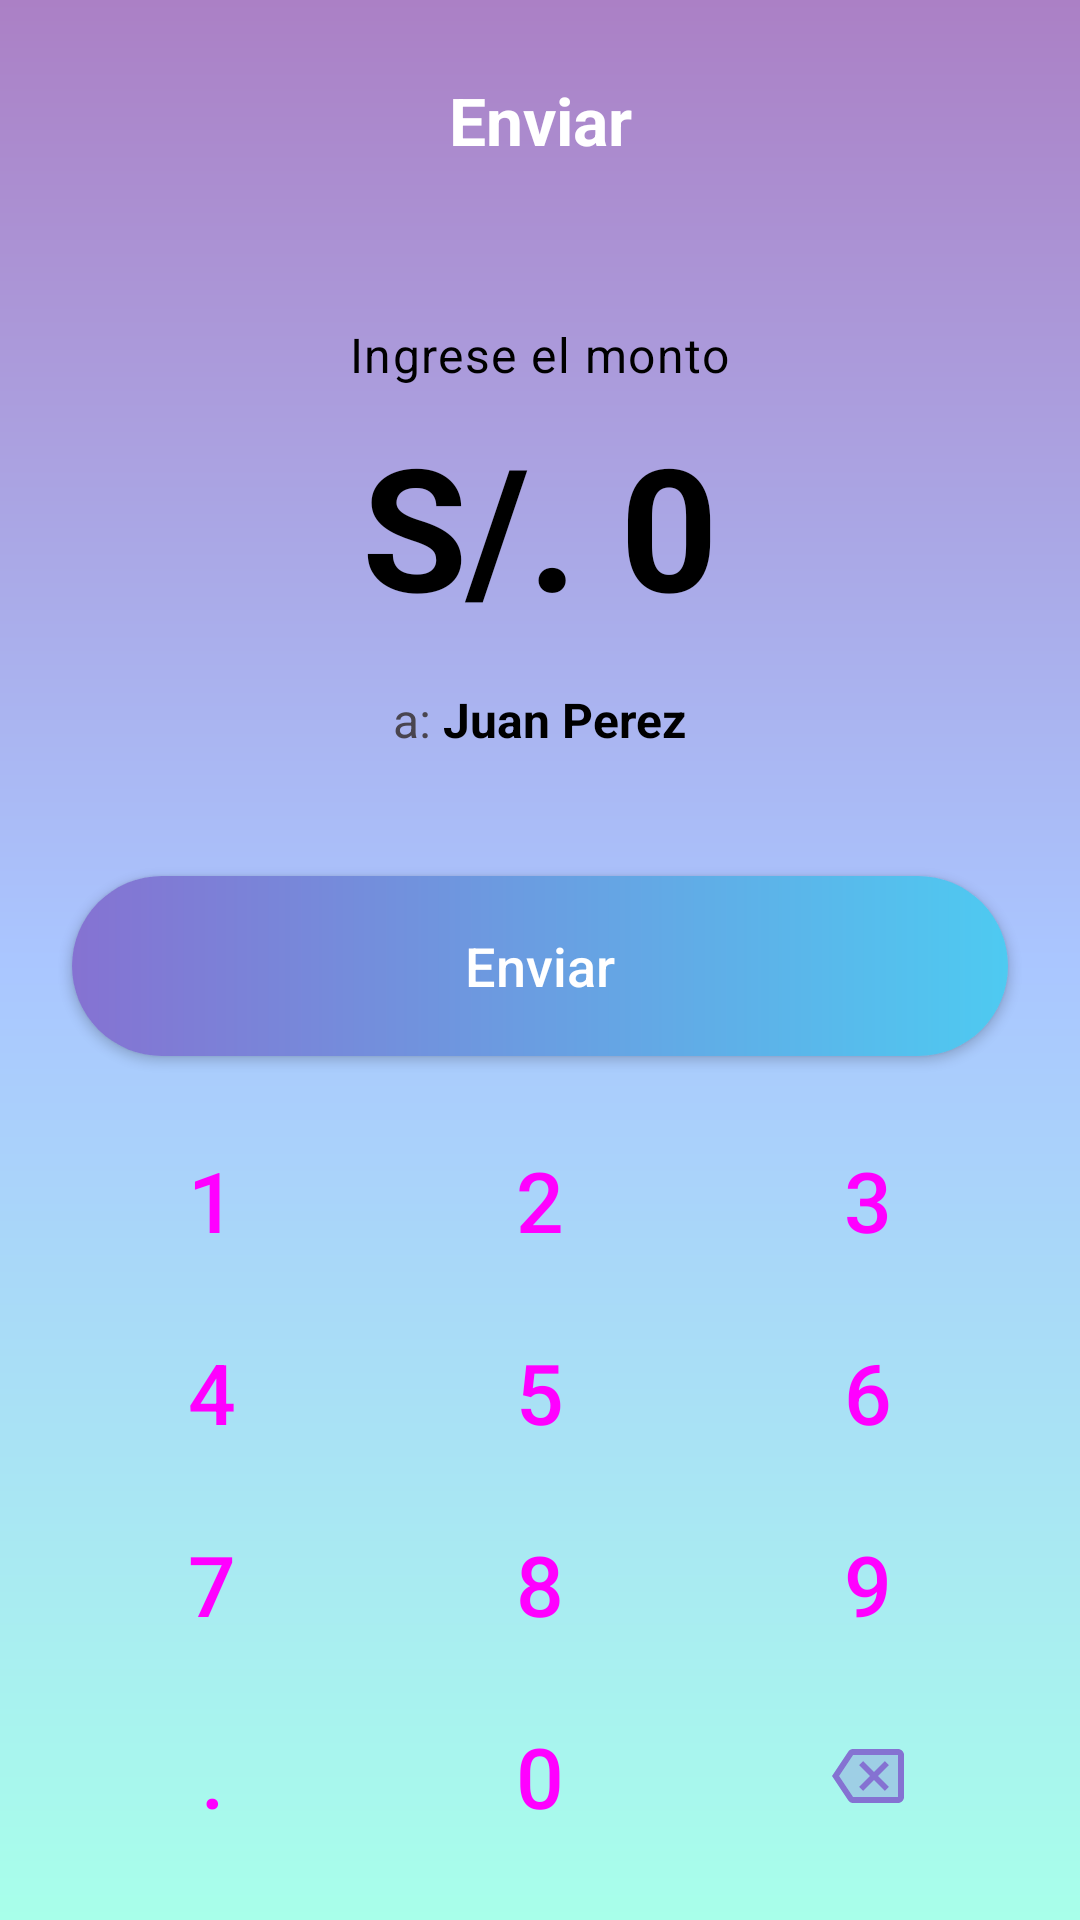

Icons on this 1080x1920 Android screen, each with the point to tap as (x=x, y=y):
backspace: (x=868, y=1776)
